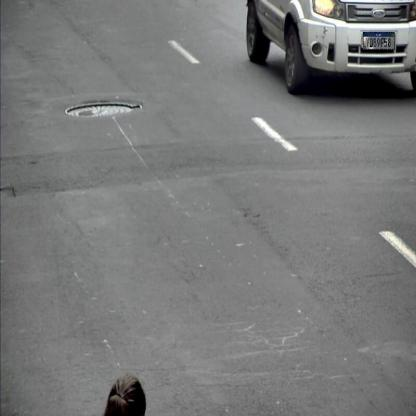PlacaM: (363, 32, 395, 50)
